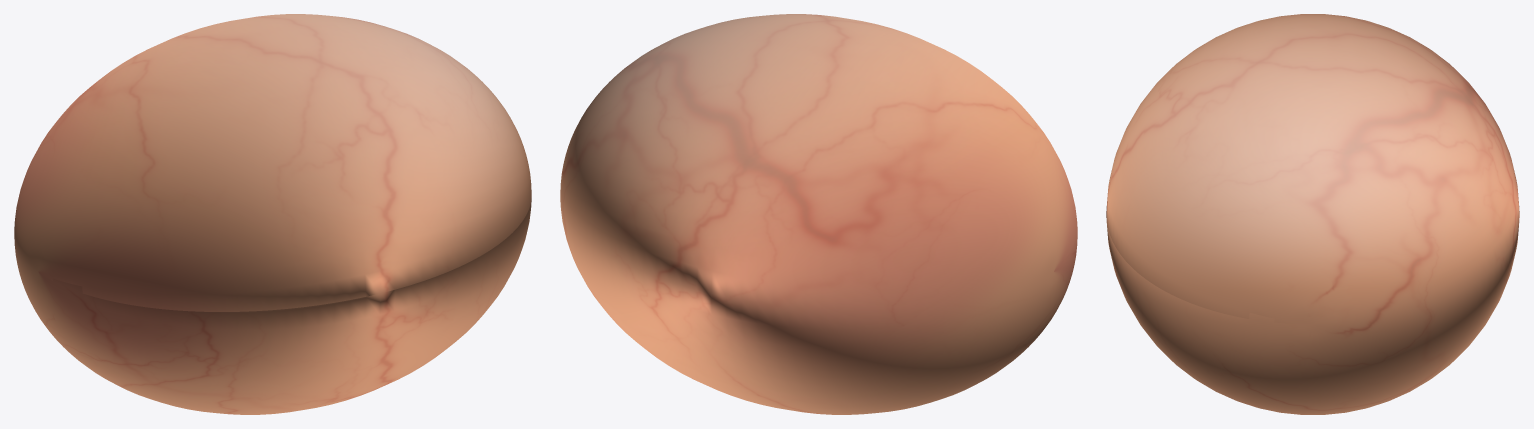
The picture shows the model from 3 angles, left to right: view 1: azimuth 30°, elevation 25°; view 2: azimuth 150°, elevation 25°; view 3: azimuth 270°, elevation 25°; orthographic projection. The views are drawn at different scales.
Parts seen in each view (by area): view 1: default; view 2: default; view 3: default.
Part boxes in pixels (<box>): default: <box>14,14,531,414</box>; default: <box>560,14,1077,414</box>; default: <box>1106,14,1519,414</box>.
Bounding box in the file's own units: 0.0743 × 0.0529 × 0.0591.
2 materials, 2 textured.
